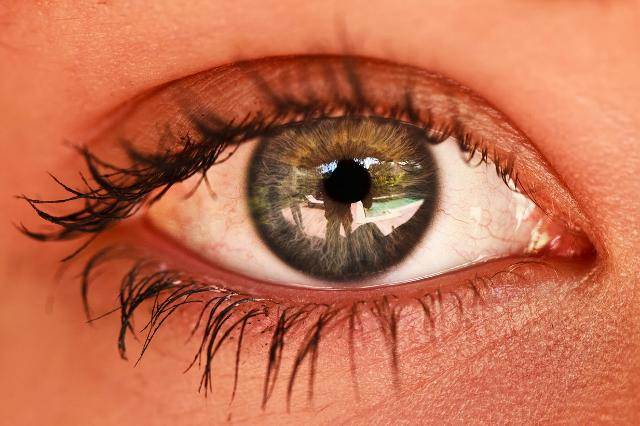eye: (252, 123, 440, 285)
